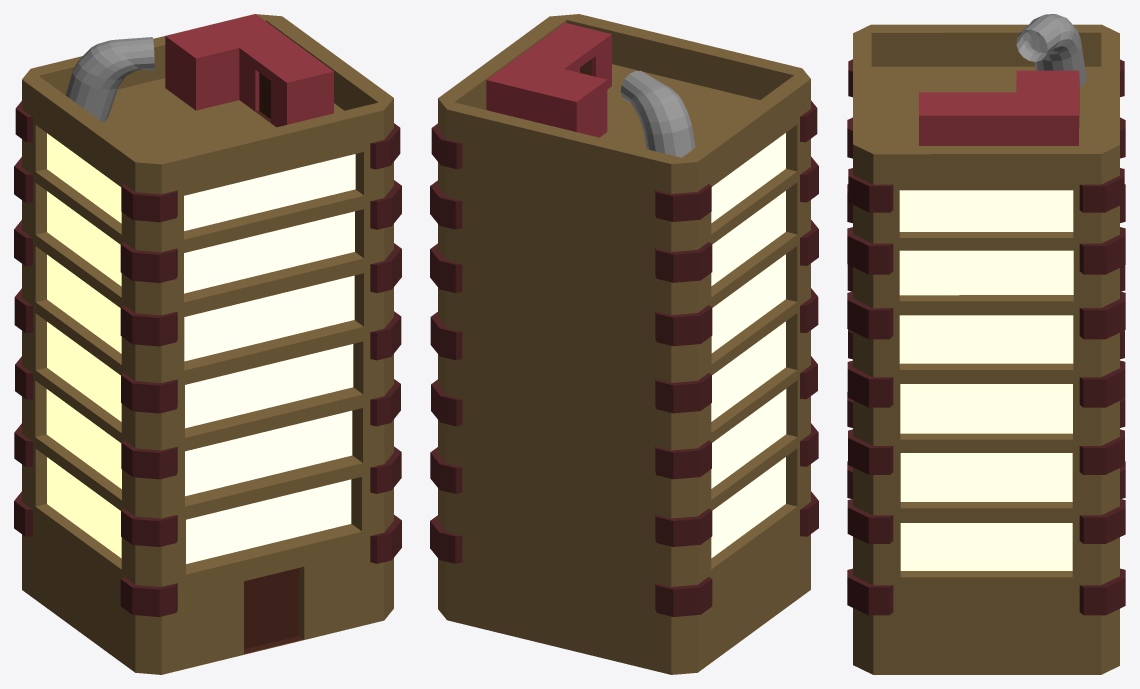
File: Back_Building_1.fbx
3 views of the same model, side by side, from view 1: azimuth 30°, elevation 25°; view 2: azimuth 150°, elevation 25°; view 3: azimuth 270°, elevation 25° (orthographic). The views are drawn at different scales.
Parts seen in each view (by area): view 1: Cube.003; view 2: Cube.003; view 3: Cube.003.
Boxes of the visible parts, x1,y1,x2,y2 form: Cube.003: (14,14,401,674); Cube.003: (430,14,818,674); Cube.003: (847,14,1125,674).
Bounding box in the file's own units: 511 × 995 × 445.
